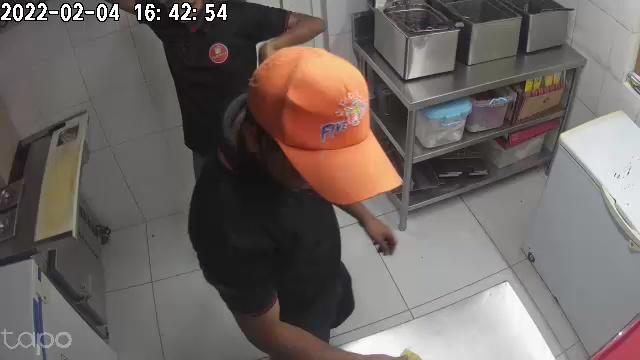no_gloves: (356, 207, 398, 257)
